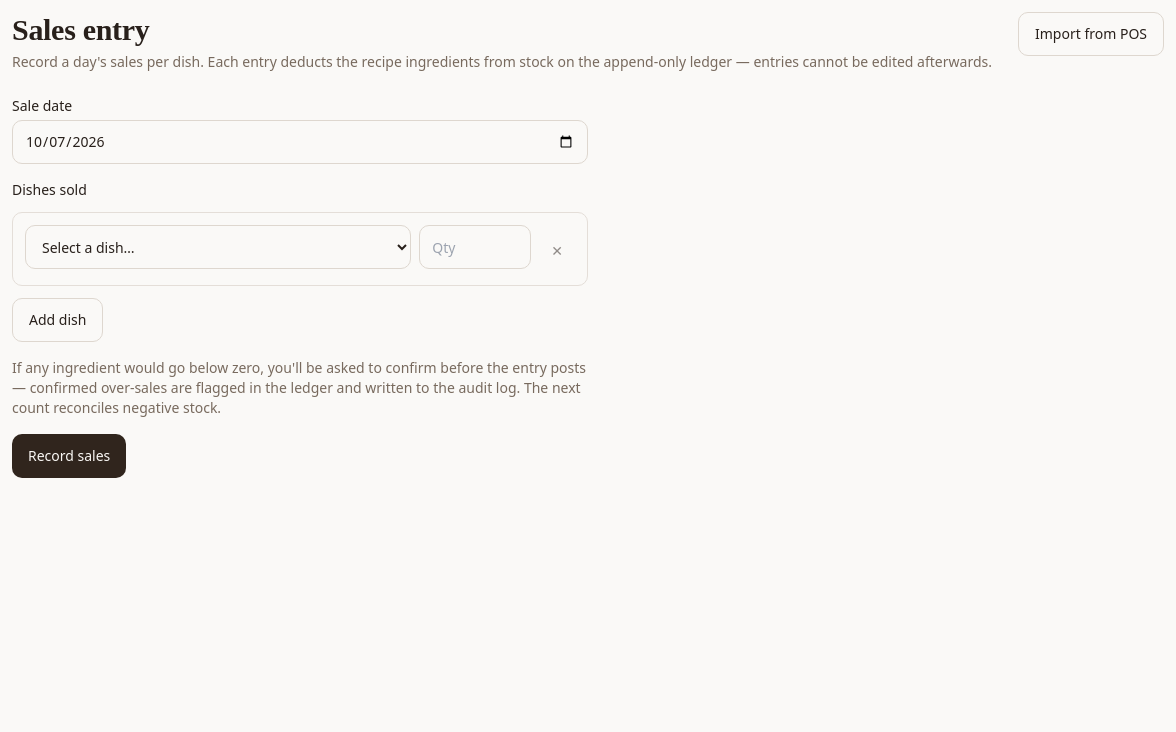
Test: SalesEntryPage › shows a validation error for an empty dish count
Select "Butter Chicken" in the dropdown named "dish 1" at (218, 247), box [25,225,411,269]
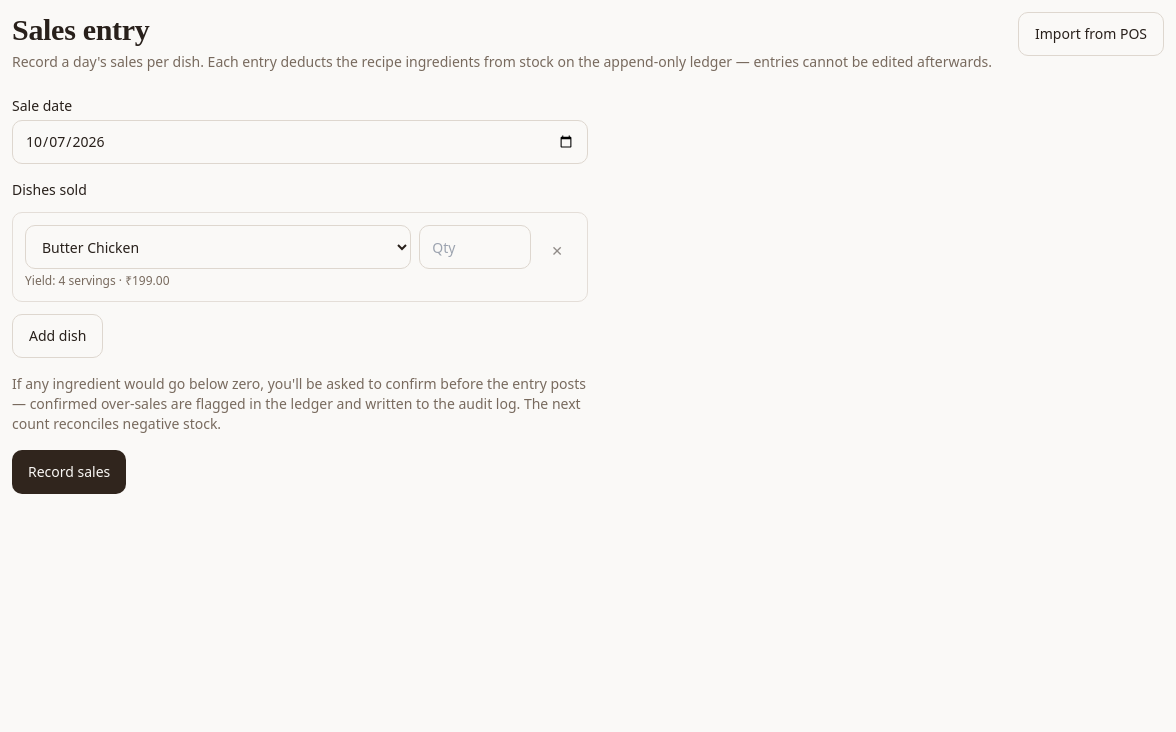
No quantity entered.
Click the button "Record sales" at (69, 472), box [12,450,126,494]
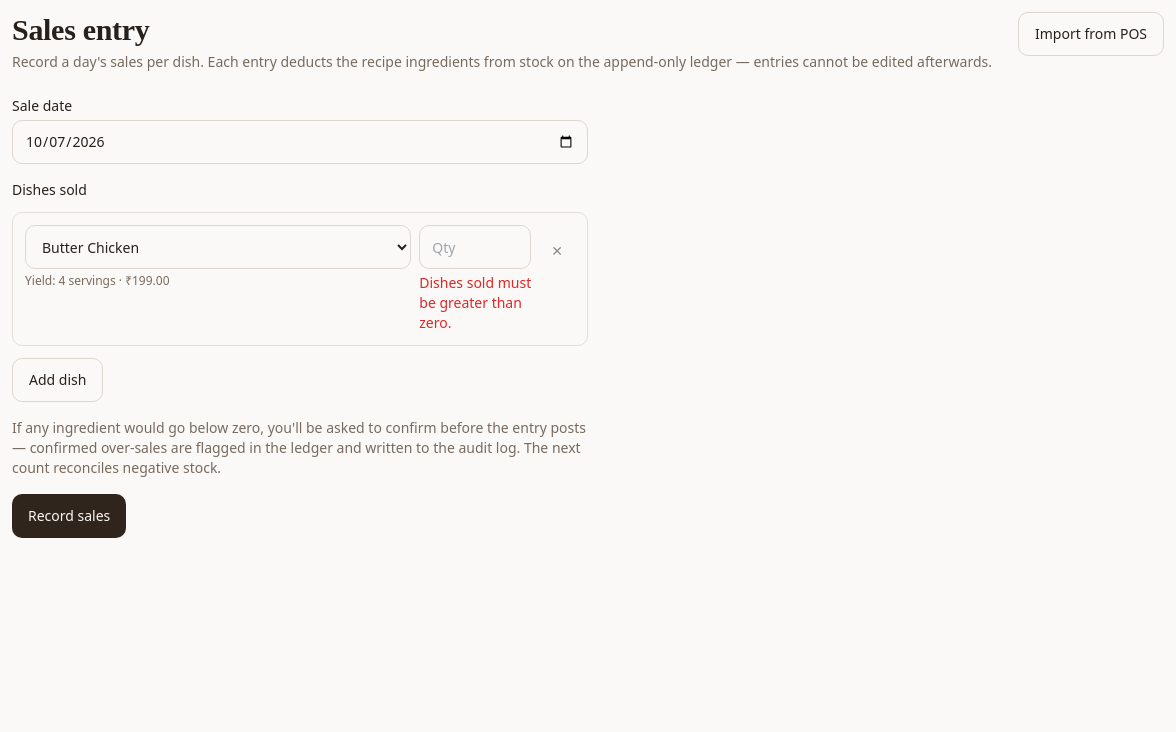
Result: the text "Dishes sold must be greater than zero." is shown at [419,273,531,333]
